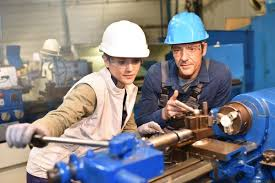Person_wearing_helmet: (94, 16, 148, 66), (161, 7, 215, 53)
